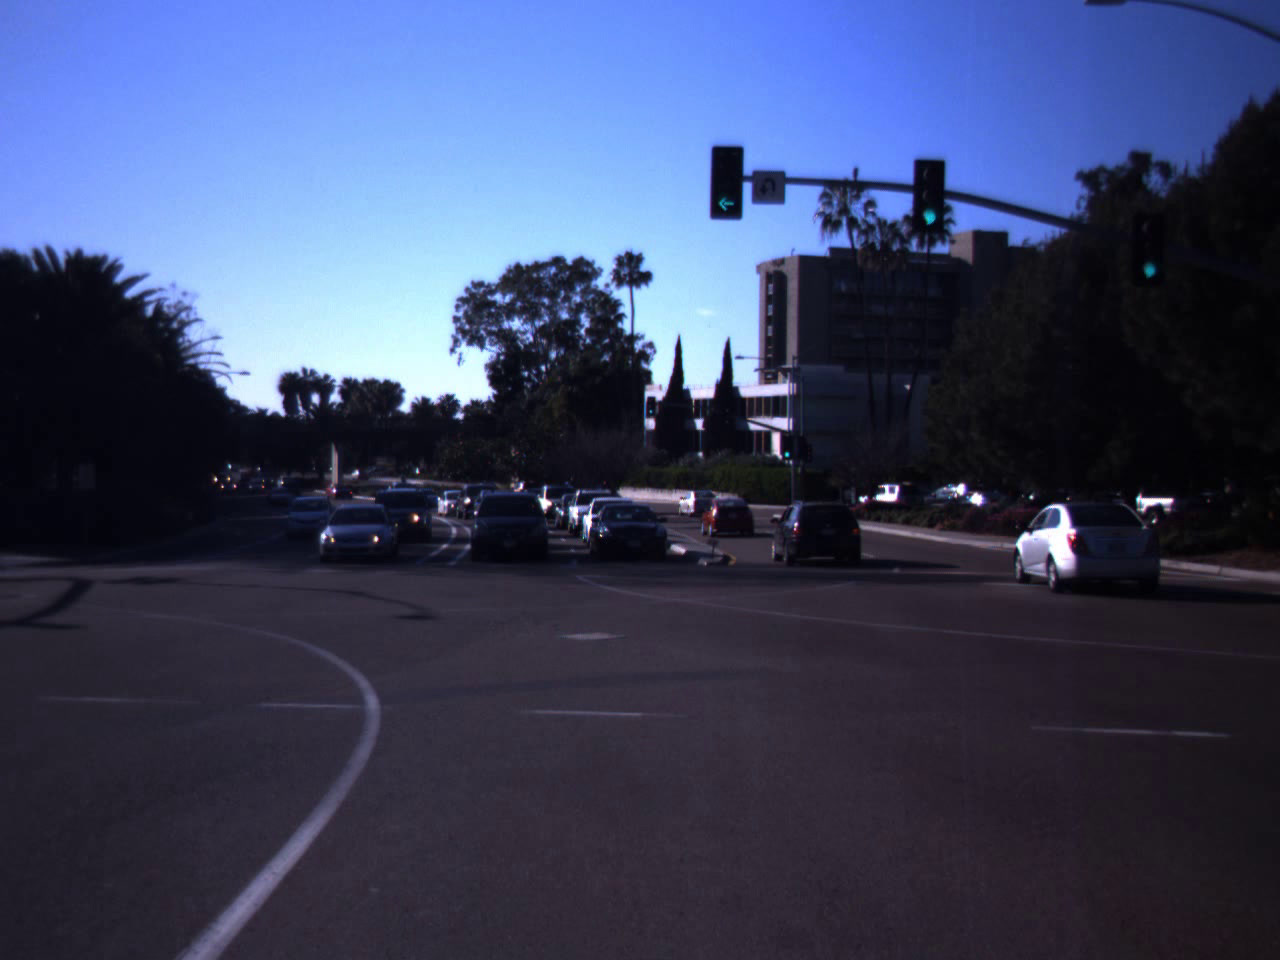go: (701, 134, 752, 219), (1138, 231, 1162, 281), (918, 182, 942, 227)
